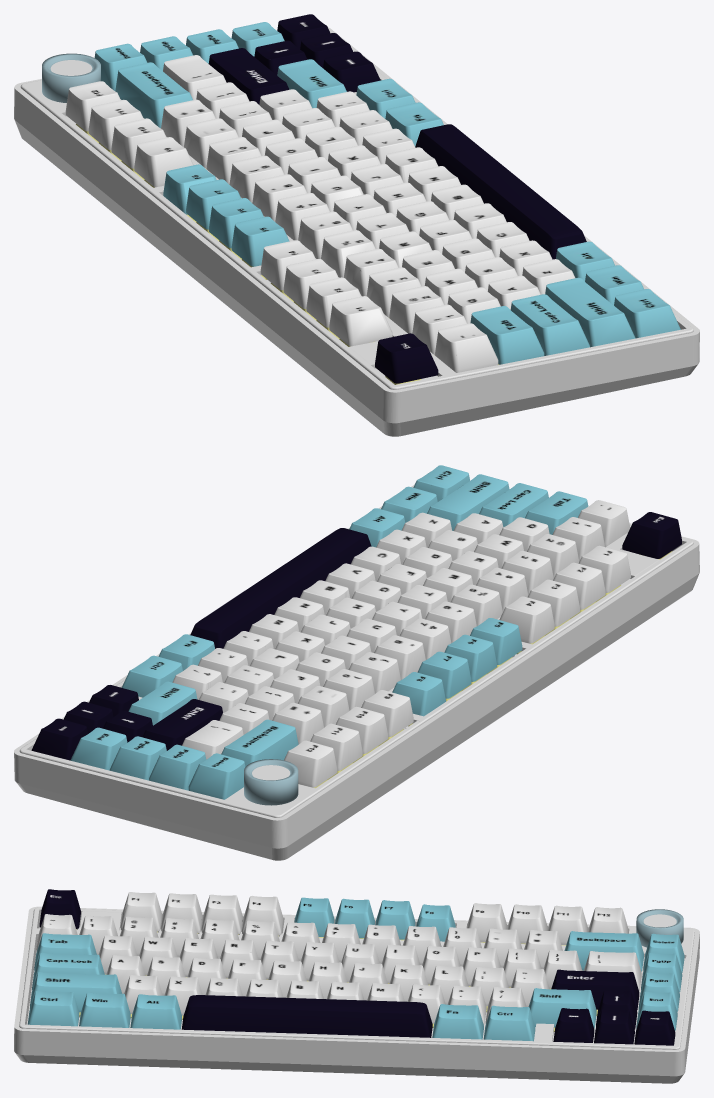
The model's file is aula-f75.glb.
3 renders of one model, top to bottom at view 1: azimuth 30°, elevation 25°; view 2: azimuth 150°, elevation 25°; view 3: azimuth 270°, elevation 25°, orthographic. The views are drawn at different scales.
Visible parts, largest first — view 1: Keycap.002_White_0, Board_Material.001_0, Keycap.001_Blue_0, Keycap_Dark blue_0; view 2: Keycap.002_White_0, Board_Material.001_0, Keycap.001_Blue_0, Keycap_Dark blue_0; view 3: Keycap.002_White_0, Board_Material.001_0, Keycap.001_Blue_0, Keycap_Dark blue_0.
Boxes of the visible parts, left/top/right/bottom form: Keycap.002_White_0: left=65, top=55, right=575, bottom=372; Board_Material.001_0: left=14, top=27, right=699, bottom=436; Keycap.001_Blue_0: left=94, top=22, right=680, bottom=364; Keycap_Dark blue_0: left=208, top=14, right=586, bottom=383; Keycap.002_White_0: left=172, top=500, right=630, bottom=787; Board_Material.001_0: left=14, top=484, right=699, bottom=860; Keycap.001_Blue_0: left=70, top=465, right=588, bottom=799; Keycap_Dark blue_0: left=31, top=512, right=681, bottom=760; Keycap.002_White_0: left=36, top=892, right=641, bottom=1024; Board_Material.001_0: left=14, top=906, right=699, bottom=1083; Keycap.001_Blue_0: left=27, top=897, right=684, bottom=1041; Keycap_Dark blue_0: left=39, top=889, right=675, bottom=1045.
Bounding box in the file's own units: 0.1453 × 0.0344 × 0.3128.
Materials: 4 (4 with a texture image).
